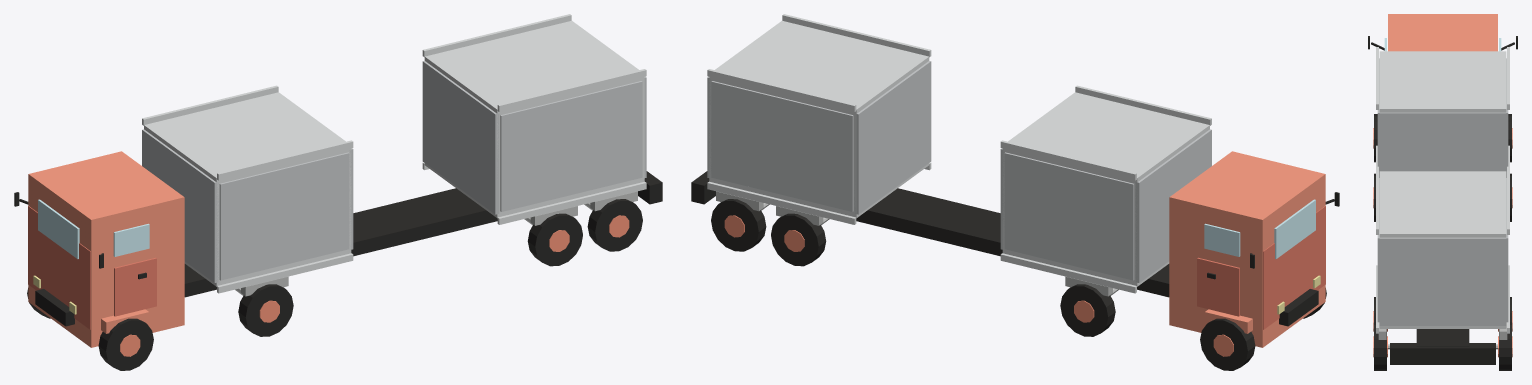
File: camion-doble-caja-largo.glb
3 views of the same model, side by side, from view 1: azimuth 30°, elevation 25°; view 2: azimuth 150°, elevation 25°; view 3: azimuth 270°, elevation 25° (orthographic). The views are drawn at different scales.
Visible parts, largest first — view 1: orange_cab_main, rear_gray_box_left_panel, front_gray_box_left_panel, rear_gray_box_body, front_gray_box_body, rear_gray_box_front_face, black_main_chassis, front_gray_box_front_face, orange_front_panel, left_door_panel, tire_03_left, tire_04_left (+11 smaller); view 2: orange_cab_main, rear_gray_box_right_panel, front_gray_box_right_panel, rear_gray_box_body, front_gray_box_body, rear_gray_box_front_face, black_main_chassis, front_gray_box_front_face, orange_front_panel, right_door_panel, tire_03_right, tire_04_right (+11 smaller); view 3: rear_gray_box_rear_face, rear_gray_box_body, front_gray_box_body, front_gray_box_rear_face, orange_cab_main, black_rear_step, black_main_chassis, tire_04_left, tire_04_right, rear_gray_box_left_panel, rear_gray_box_right_panel, front_gray_box_left_panel (+9 smaller).
Boxes of the visible parts, x1=… form: orange_cab_main: x1=28, y1=151, x2=184, y2=347; rear_gray_box_left_panel: x1=500, y1=81, x2=642, y2=211; front_gray_box_left_panel: x1=219, y1=152, x2=349, y2=280; rear_gray_box_body: x1=424, y1=20, x2=644, y2=218; front_gray_box_body: x1=144, y1=92, x2=351, y2=286; rear_gray_box_front_face: x1=422, y1=61, x2=499, y2=214; black_main_chassis: x1=35, y1=188, x2=497, y2=326; front_gray_box_front_face: x1=142, y1=129, x2=218, y2=282; orange_front_panel: x1=28, y1=206, x2=90, y2=329; left_door_panel: x1=114, y1=257, x2=156, y2=316; tire_03_left: x1=527, y1=213, x2=582, y2=266; tire_04_left: x1=587, y1=199, x2=642, y2=251; orange_cab_main: x1=1169, y1=151, x2=1325, y2=347; rear_gray_box_right_panel: x1=711, y1=81, x2=853, y2=211; front_gray_box_right_panel: x1=1004, y1=152, x2=1134, y2=280; rear_gray_box_body: x1=709, y1=20, x2=929, y2=218; front_gray_box_body: x1=1002, y1=92, x2=1209, y2=286; rear_gray_box_front_face: x1=854, y1=61, x2=931, y2=214; black_main_chassis: x1=856, y1=188, x2=1318, y2=326; front_gray_box_front_face: x1=1135, y1=129, x2=1211, y2=282; orange_front_panel: x1=1263, y1=206, x2=1325, y2=329; right_door_panel: x1=1197, y1=257, x2=1239, y2=316; tire_03_right: x1=771, y1=213, x2=826, y2=266; tire_04_right: x1=711, y1=199, x2=766, y2=251; rear_gray_box_rear_face: x1=1379, y1=237, x2=1506, y2=325; rear_gray_box_body: x1=1379, y1=171, x2=1506, y2=328; front_gray_box_body: x1=1379, y1=51, x2=1506, y2=112; front_gray_box_rear_face: x1=1379, y1=112, x2=1506, y2=171; orange_cab_main: x1=1388, y1=14, x2=1497, y2=51; black_rear_step: x1=1390, y1=343, x2=1495, y2=364; black_main_chassis: x1=1416, y1=329, x2=1469, y2=346; tire_04_left: x1=1374, y1=322, x2=1386, y2=370; tire_04_right: x1=1499, y1=322, x2=1511, y2=370; rear_gray_box_left_panel: x1=1377, y1=178, x2=1379, y2=322; rear_gray_box_right_panel: x1=1506, y1=178, x2=1508, y2=322; front_gray_box_left_panel: x1=1377, y1=58, x2=1379, y2=177.
Size of the model in its own units: 11.66 by 3.32 by 2.98.
